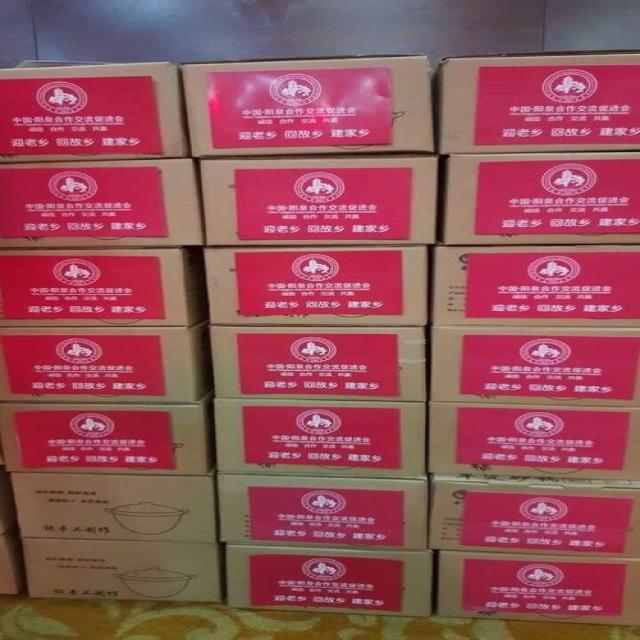box: (183, 55, 435, 158), (200, 152, 438, 245), (431, 50, 640, 153), (0, 63, 188, 163), (443, 150, 640, 245), (0, 158, 205, 248), (205, 245, 430, 327), (430, 472, 640, 559), (212, 398, 428, 479), (0, 323, 212, 404), (0, 397, 216, 476), (216, 472, 431, 551), (209, 325, 426, 403), (429, 402, 640, 482), (0, 247, 207, 328), (431, 328, 640, 408), (435, 246, 640, 327), (438, 550, 640, 627), (228, 544, 434, 617), (9, 472, 219, 543), (20, 538, 224, 603), (0, 528, 23, 595)
